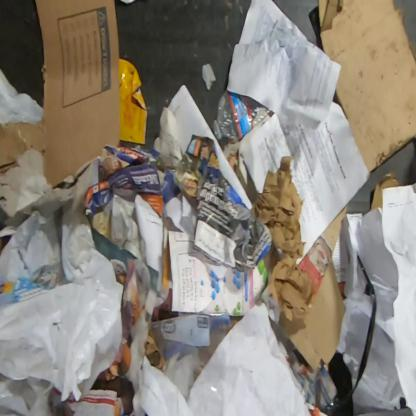cardboard: (0, 0, 122, 191), (249, 152, 348, 373), (317, 0, 415, 174), (370, 170, 400, 211)
rigid_plastic: (212, 88, 274, 142)
soft_plastic: (0, 209, 125, 403), (148, 312, 235, 415), (120, 58, 148, 146), (0, 69, 43, 124)
